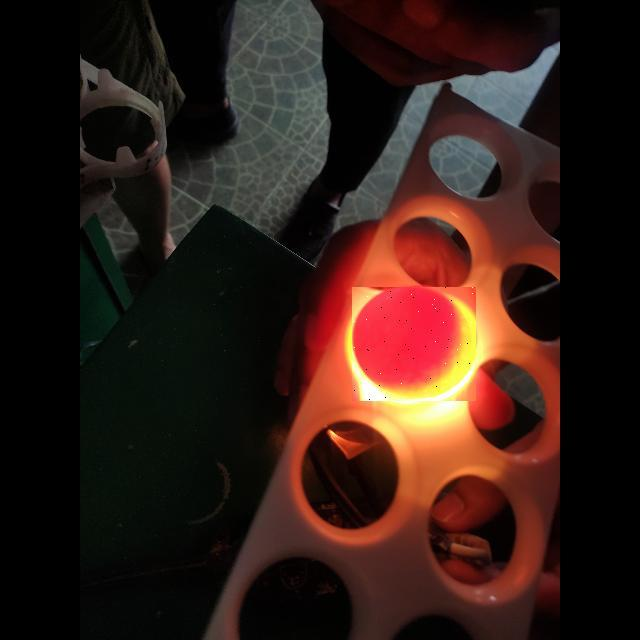A - Good: (352, 287, 476, 401)
